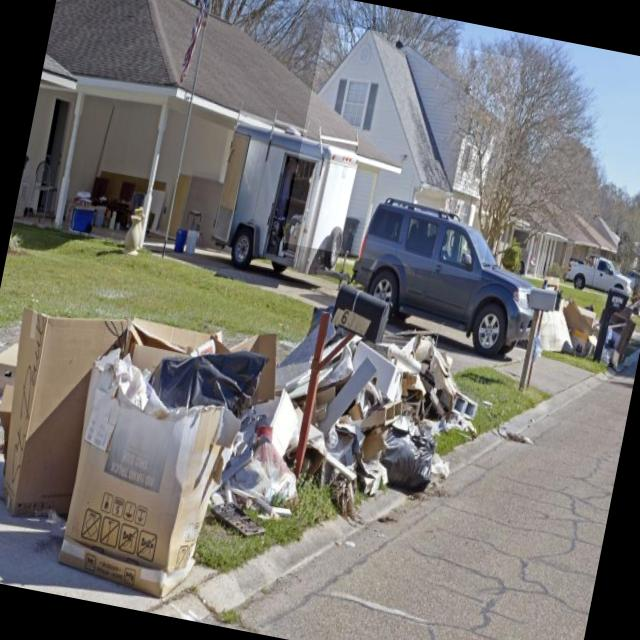House: (12, 0, 390, 291), (282, 21, 523, 281)
